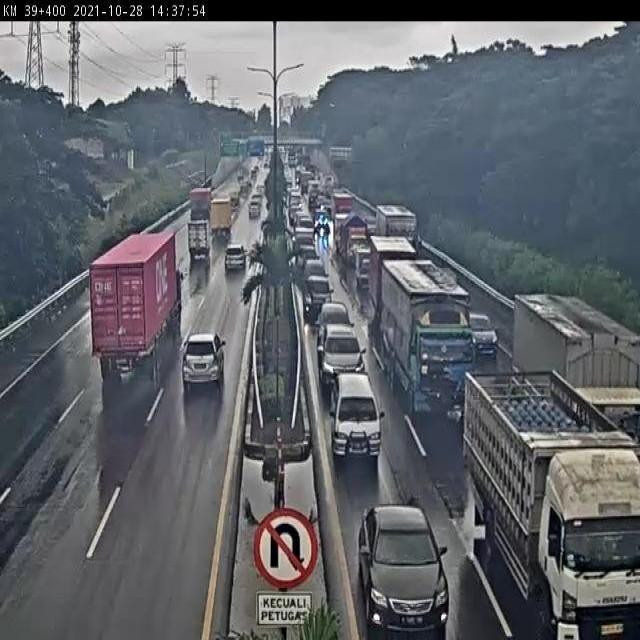car: (188, 223, 214, 261)
truck-l-: (466, 370, 640, 640), (514, 294, 640, 482), (379, 262, 471, 414), (187, 186, 213, 222)
truck-s-: (210, 200, 234, 243)
truck-xl-: (91, 233, 188, 384)
